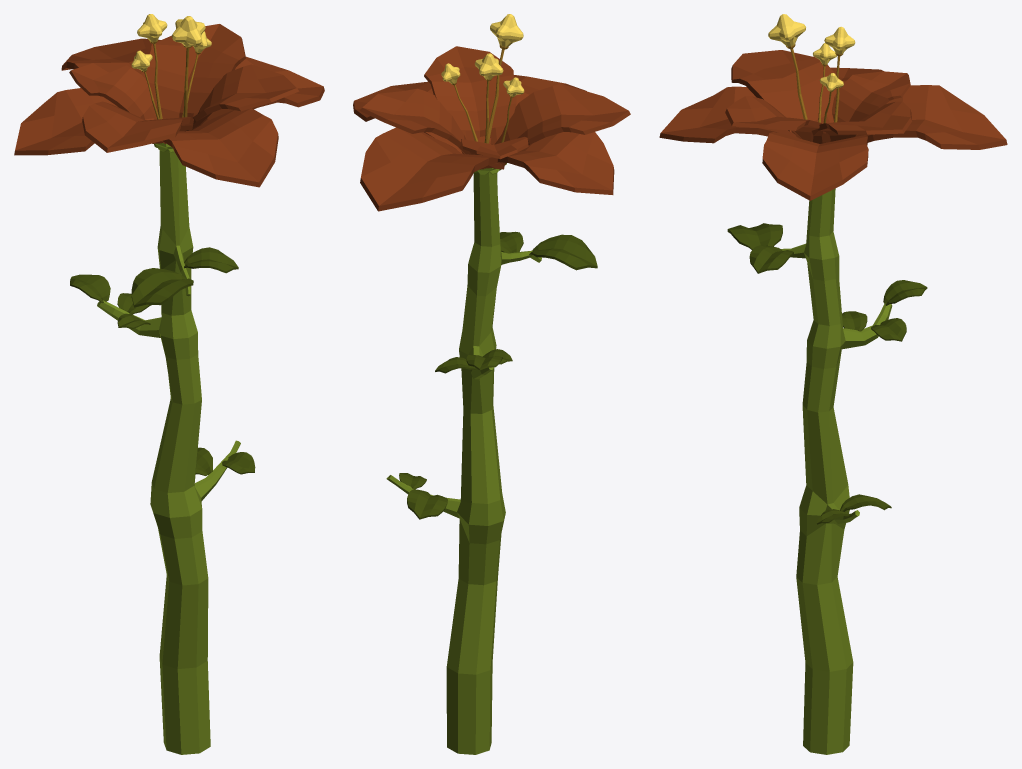
The model's file is Crop.fbx.
The picture shows the model from 3 angles, left to right: view 1: azimuth 30°, elevation 25°; view 2: azimuth 150°, elevation 25°; view 3: azimuth 270°, elevation 25°; orthographic projection. The views are drawn at different scales.
Visible parts, largest first — view 1: ResourceFlower, Peddle, Peddle7, Peddle4, Peddle5, Peddle6, Peddle8, Leaf7, Peddle3, Peddle2, Leaf6, Leaf (+3 smaller); view 2: ResourceFlower, Peddle3, Peddle6, Peddle5, Peddle4, Peddle7, Leaf7, Peddle8, Leaf4, Peddle2, Resource2, Peddle (+1 smaller); view 3: ResourceFlower, Peddle2, Peddle5, Peddle3, Peddle, Peddle8, Peddle6, Peddle7, Leaf7, Leaf6, Resource2, Leaf (+1 smaller).
Part boxes in pixels (box(x1,y1,x2,y2)): ResourceFlower: box(97, 143, 240, 754); Peddle: box(152, 108, 278, 187); Peddle7: box(143, 24, 245, 118); Peddle4: box(14, 88, 165, 155); Peddle5: box(82, 101, 193, 152); Peddle6: box(185, 64, 299, 131); Peddle8: box(69, 63, 156, 119); Leaf7: box(131, 268, 193, 307); Peddle3: box(61, 38, 160, 120); Peddle2: box(200, 56, 324, 125); Leaf6: box(184, 247, 238, 273); Leaf: box(70, 274, 110, 302); ResourceFlower: box(386, 163, 541, 754); Peddle3: box(360, 127, 504, 211); Peddle6: box(424, 46, 516, 144); Peddle5: box(494, 84, 630, 164); Peddle4: box(498, 132, 614, 194); Peddle7: box(360, 88, 471, 154); Leaf7: box(529, 234, 597, 270); Peddle8: box(461, 136, 528, 159); Leaf4: box(407, 489, 447, 519); Peddle2: box(353, 81, 462, 153); Resource2: box(490, 14, 523, 47); Peddle: box(478, 75, 586, 143); ResourceFlower: box(781, 188, 892, 754); Peddle2: box(762, 132, 868, 200); Peddle5: box(731, 50, 836, 132); Peddle3: box(855, 85, 1007, 149); Peddle: box(659, 86, 799, 143); Peddle8: box(832, 71, 910, 122); Peddle6: box(725, 96, 830, 143); Peddle7: box(811, 101, 912, 143); Leaf7: box(727, 223, 782, 249); Leaf6: box(749, 245, 793, 273); Resource2: box(768, 14, 805, 46); Leaf: box(883, 280, 927, 305).
Size of the model in its own units: 73.48 by 181 by 79.08.
